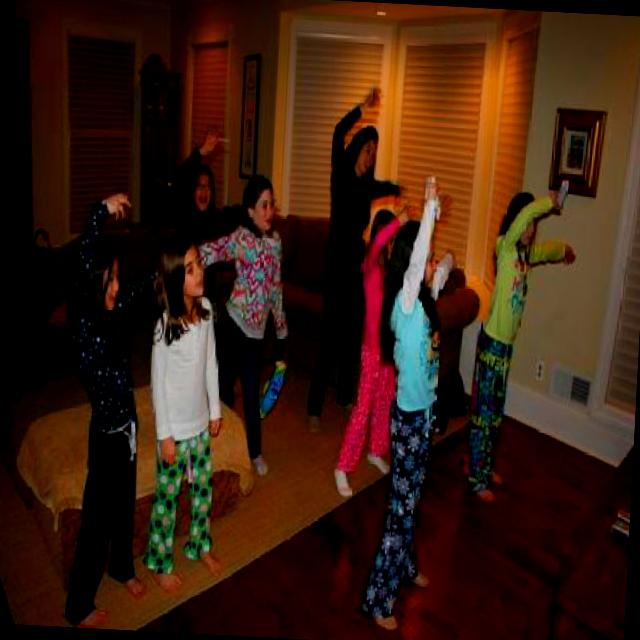Person: (48, 190, 168, 630), (360, 174, 462, 636), (134, 229, 242, 599), (306, 86, 412, 438), (464, 186, 580, 506), (185, 174, 296, 476), (332, 198, 417, 500), (164, 126, 248, 320)
